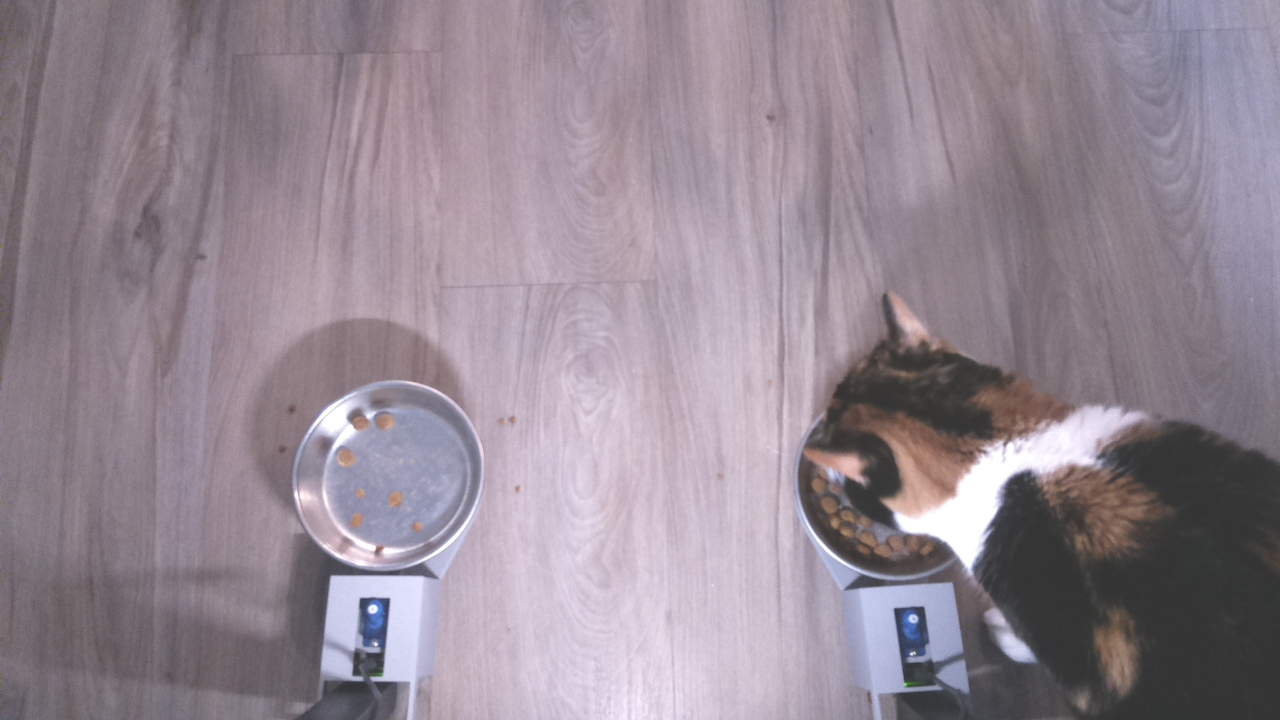bella_eating: (783, 273, 1047, 586)
open_bowl: (284, 371, 492, 582)
